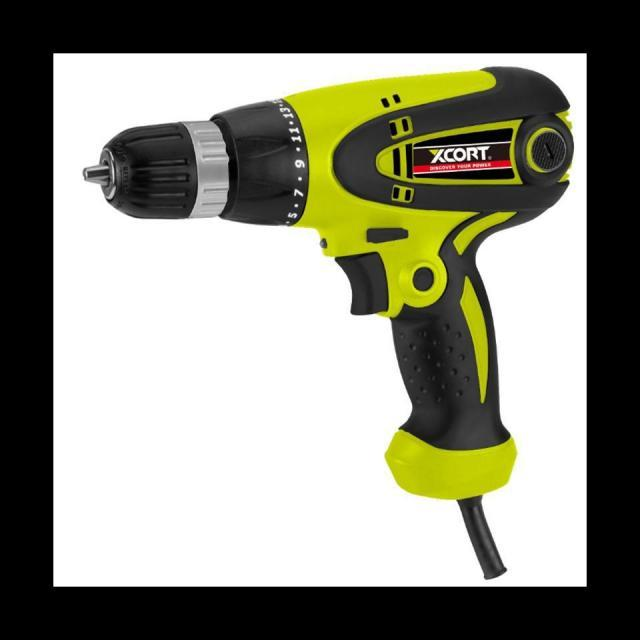drill: (82, 66, 575, 581)
